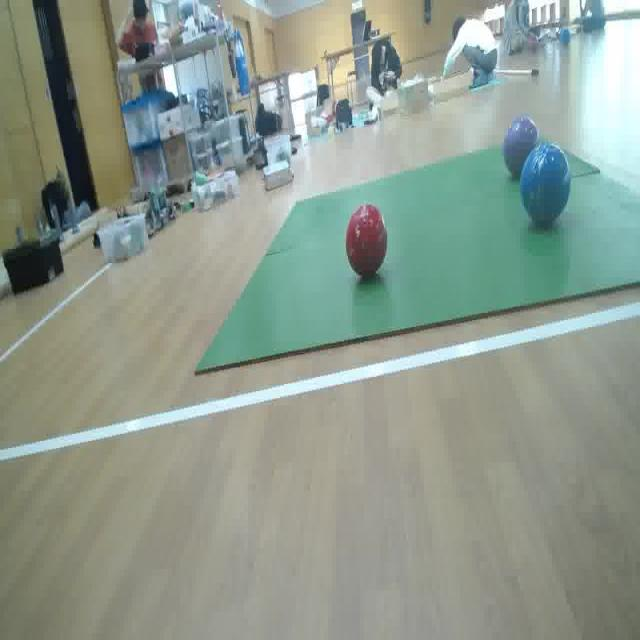blue_ball: (520, 136, 574, 227)
purple_ball: (505, 114, 539, 186)
red_ball: (344, 208, 392, 279)
